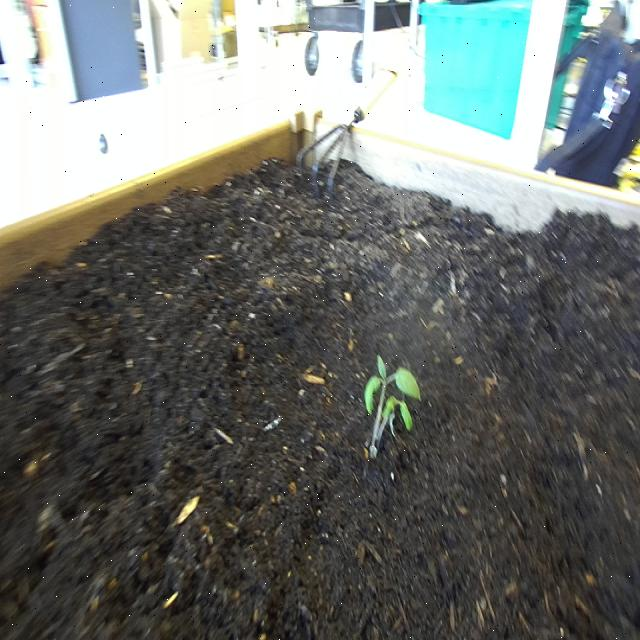Healthy: (363, 354, 423, 472)
